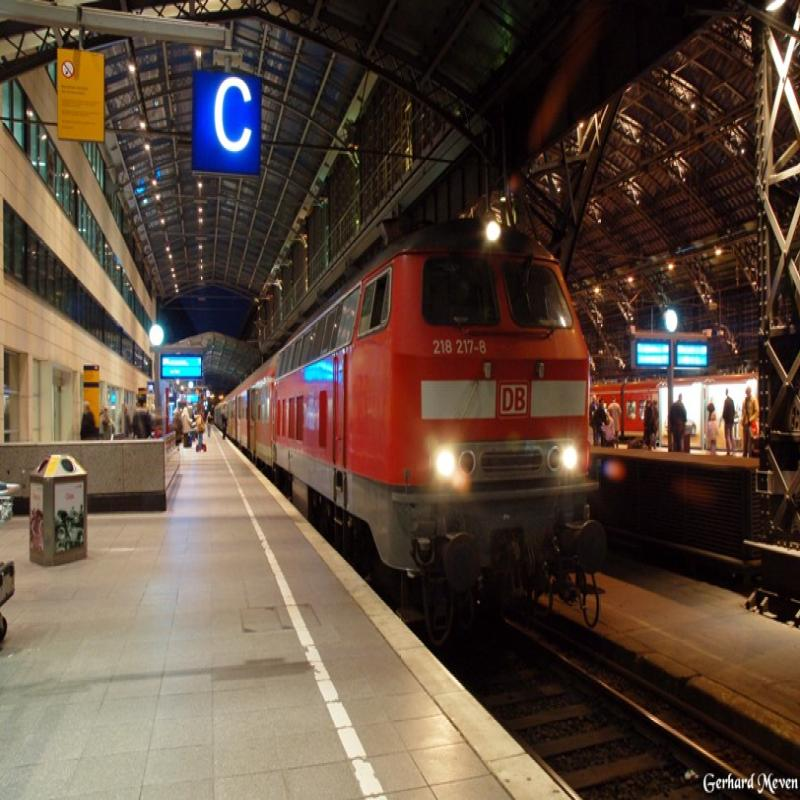train: (208, 305, 597, 574)
